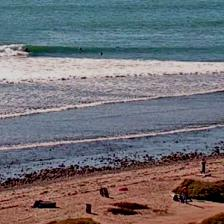surfer: (23, 47, 30, 52), (78, 48, 84, 52), (100, 52, 102, 56)
